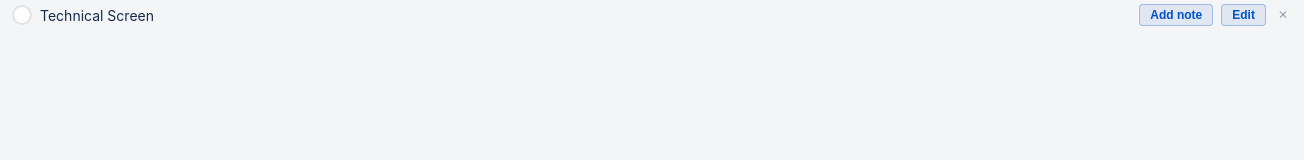
Test case: StageItem › editing a stage › cancels edit mode without saving
This screenshot has width=1304, height=160.
Click the button "Edit": [1244, 15] box x1=1221 y1=4 x2=1266 y2=26
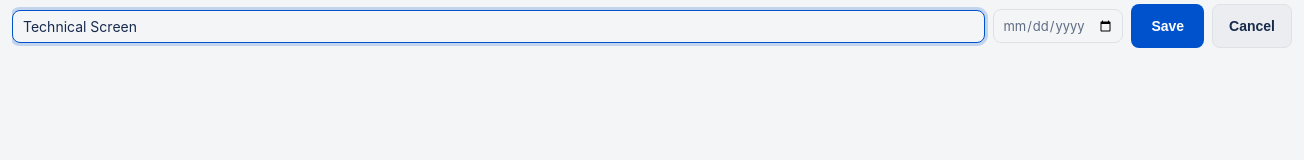
Click the button "Cancel": [1252, 26] box x1=1212 y1=4 x2=1292 y2=48
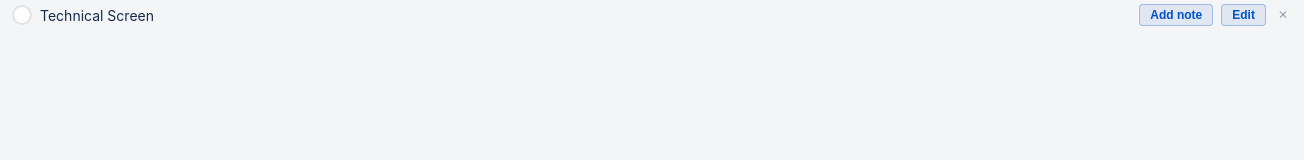
Expected: the text "Technical Screen" is shown, x1=40 y1=6 x2=154 y2=24
